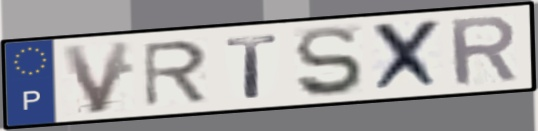R: (445, 13, 521, 89), (139, 38, 210, 110)
S: (292, 23, 367, 99)
T: (222, 32, 282, 101)
V: (57, 38, 136, 117)
X: (370, 16, 446, 96)
